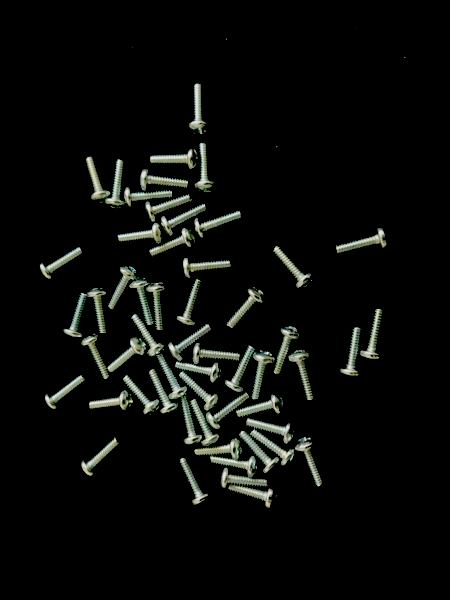shortscrew: (273, 245, 315, 291), (239, 431, 280, 475), (81, 436, 123, 477), (206, 392, 251, 430), (252, 430, 297, 468), (40, 246, 86, 283), (168, 324, 214, 361), (227, 286, 266, 329), (123, 374, 161, 418), (130, 314, 167, 359), (148, 368, 182, 416), (288, 350, 319, 402), (45, 375, 88, 412), (336, 227, 390, 256), (107, 336, 148, 374), (225, 346, 258, 393), (149, 227, 197, 259), (295, 437, 325, 488), (161, 203, 206, 237), (273, 327, 303, 377), (108, 266, 140, 312), (180, 458, 210, 507), (190, 400, 221, 447), (247, 417, 299, 445), (157, 355, 189, 400), (195, 210, 243, 239), (81, 334, 111, 380), (360, 309, 386, 361), (145, 194, 193, 222), (237, 392, 285, 420), (228, 484, 278, 510), (140, 169, 189, 195), (62, 293, 88, 341), (250, 351, 275, 400), (339, 328, 363, 379), (85, 156, 111, 203), (180, 396, 204, 446), (194, 437, 243, 461), (150, 148, 200, 171), (188, 84, 210, 136), (195, 143, 217, 194), (175, 361, 222, 384), (118, 223, 165, 246), (130, 279, 154, 324), (220, 468, 268, 490), (211, 456, 259, 478), (146, 282, 167, 332), (183, 258, 232, 279), (124, 187, 173, 208), (86, 289, 109, 333), (89, 390, 134, 412), (192, 342, 240, 362)
